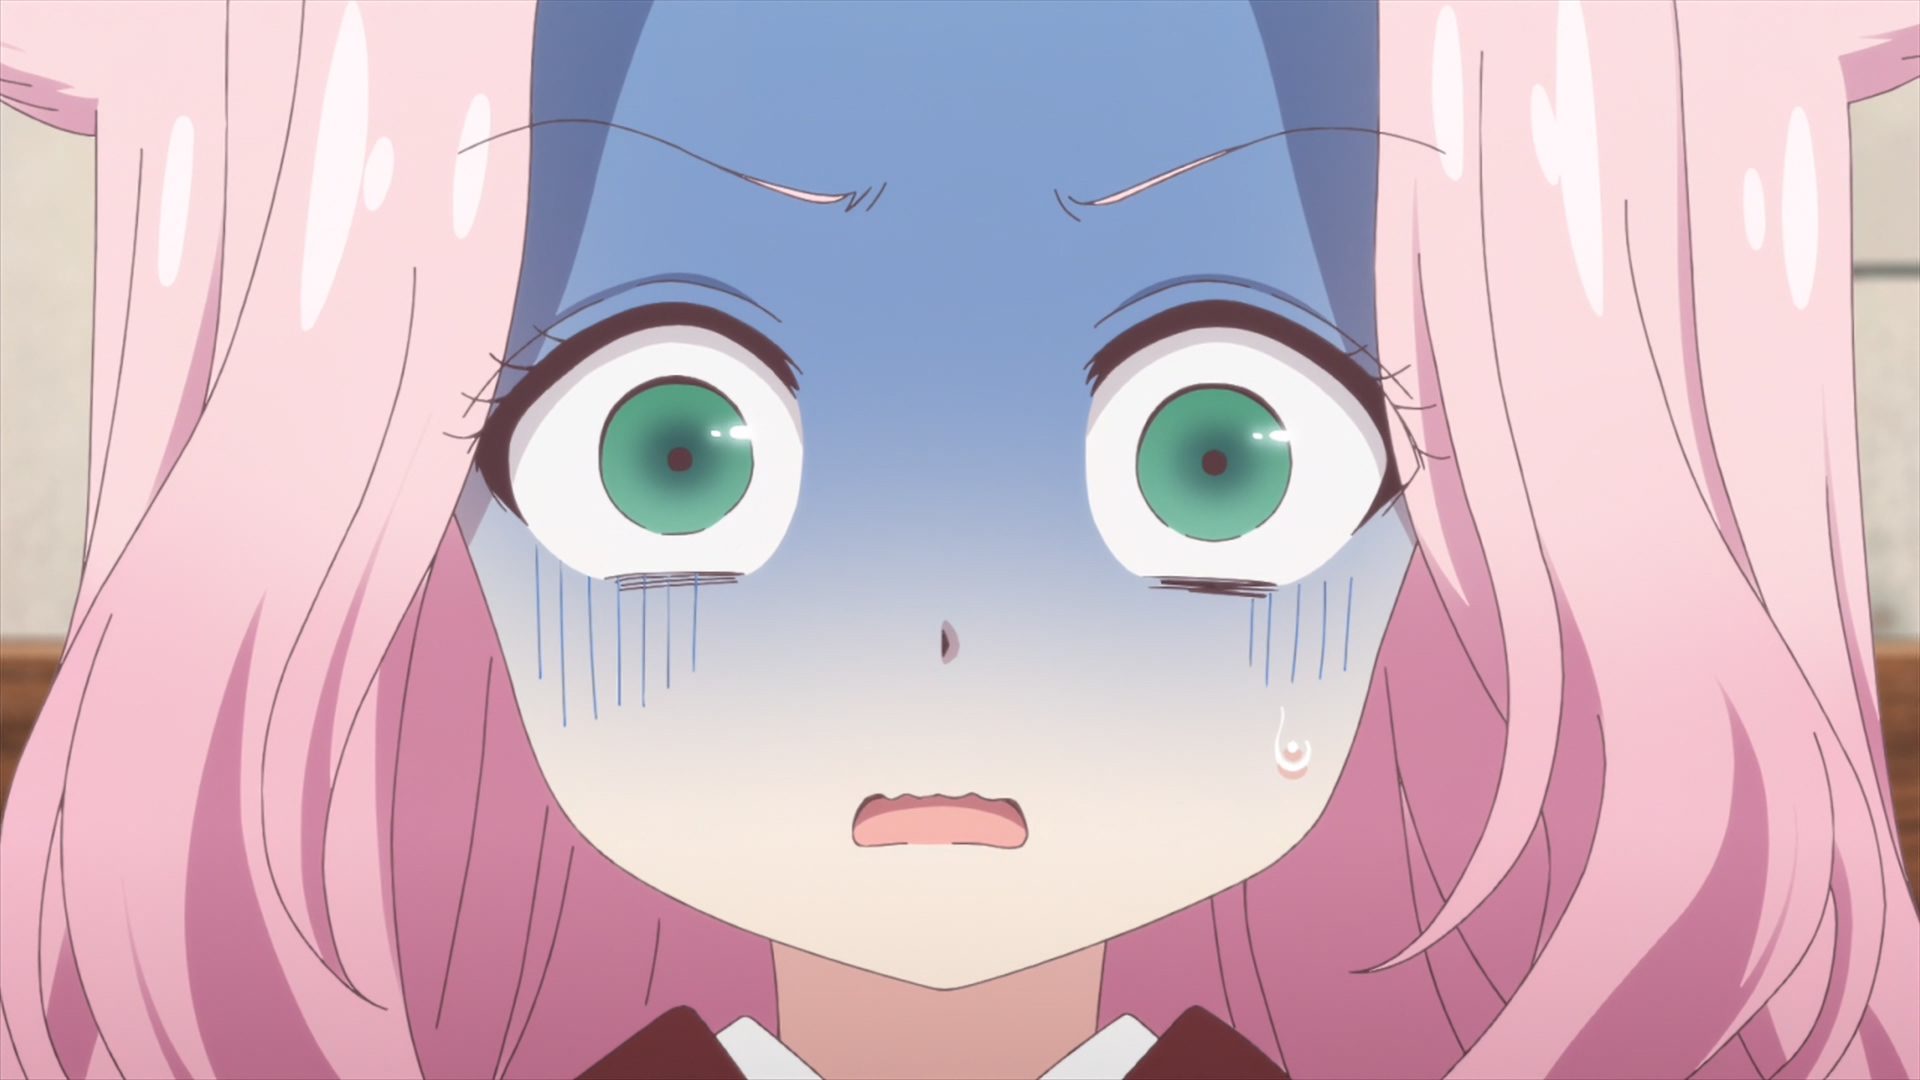莲: (1, 1, 1920, 1080)
